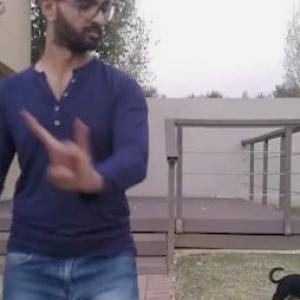takeoff-hand: (15, 97, 109, 191)
